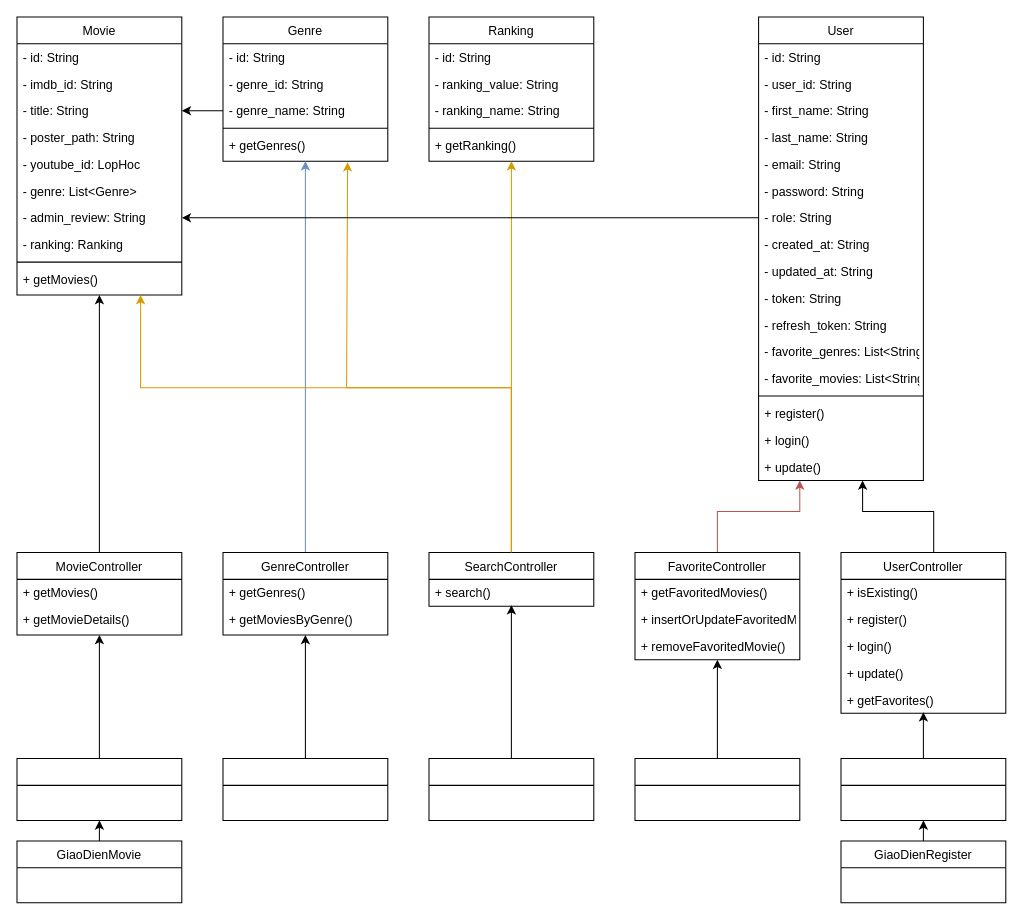
The diagram is 1023 pixels wide and 920 high, and some of its shapes have lost their labels. Here are the shapes that lost their labels. From the top down, the centre of each, then its label:
At [99,789]: "GiaoDienMovieDetails".
At [305,789]: "GiaoDienGenre".
At [511,789]: "GiaoDienSearch".
At [717,789]: "GiaoDienFavorites".
At [923,789]: "GiaoDienLogin".
